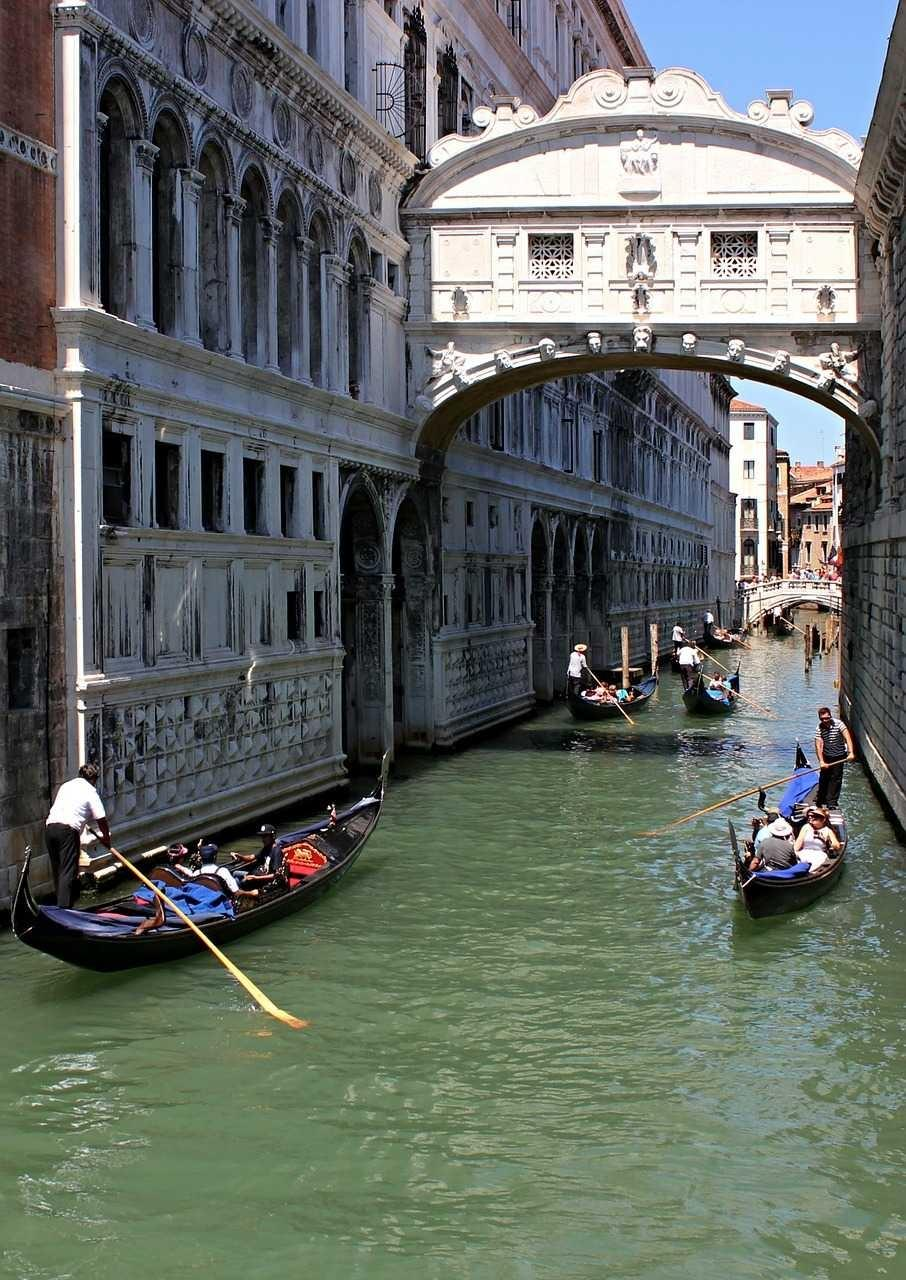kayak: (6, 755, 391, 976), (730, 751, 853, 924), (106, 833, 268, 942), (736, 836, 848, 917), (567, 674, 658, 722), (685, 675, 737, 715), (705, 625, 744, 648)
